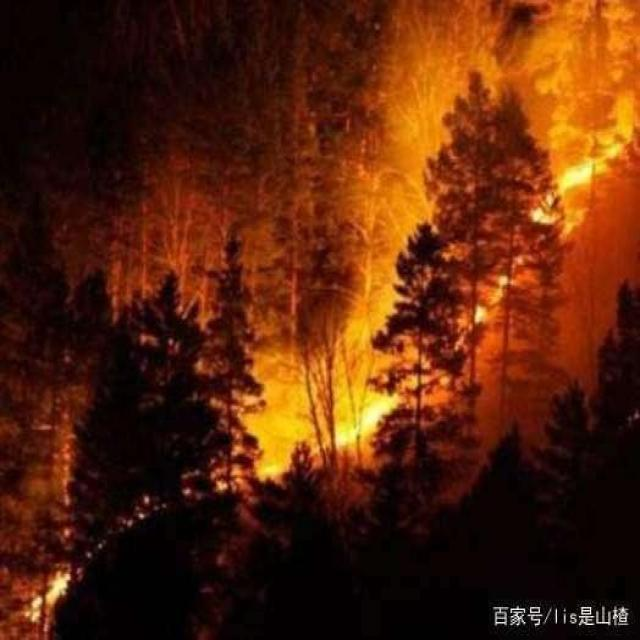fire: (262, 381, 431, 471), (526, 116, 632, 229), (446, 223, 526, 365), (30, 549, 76, 628)
